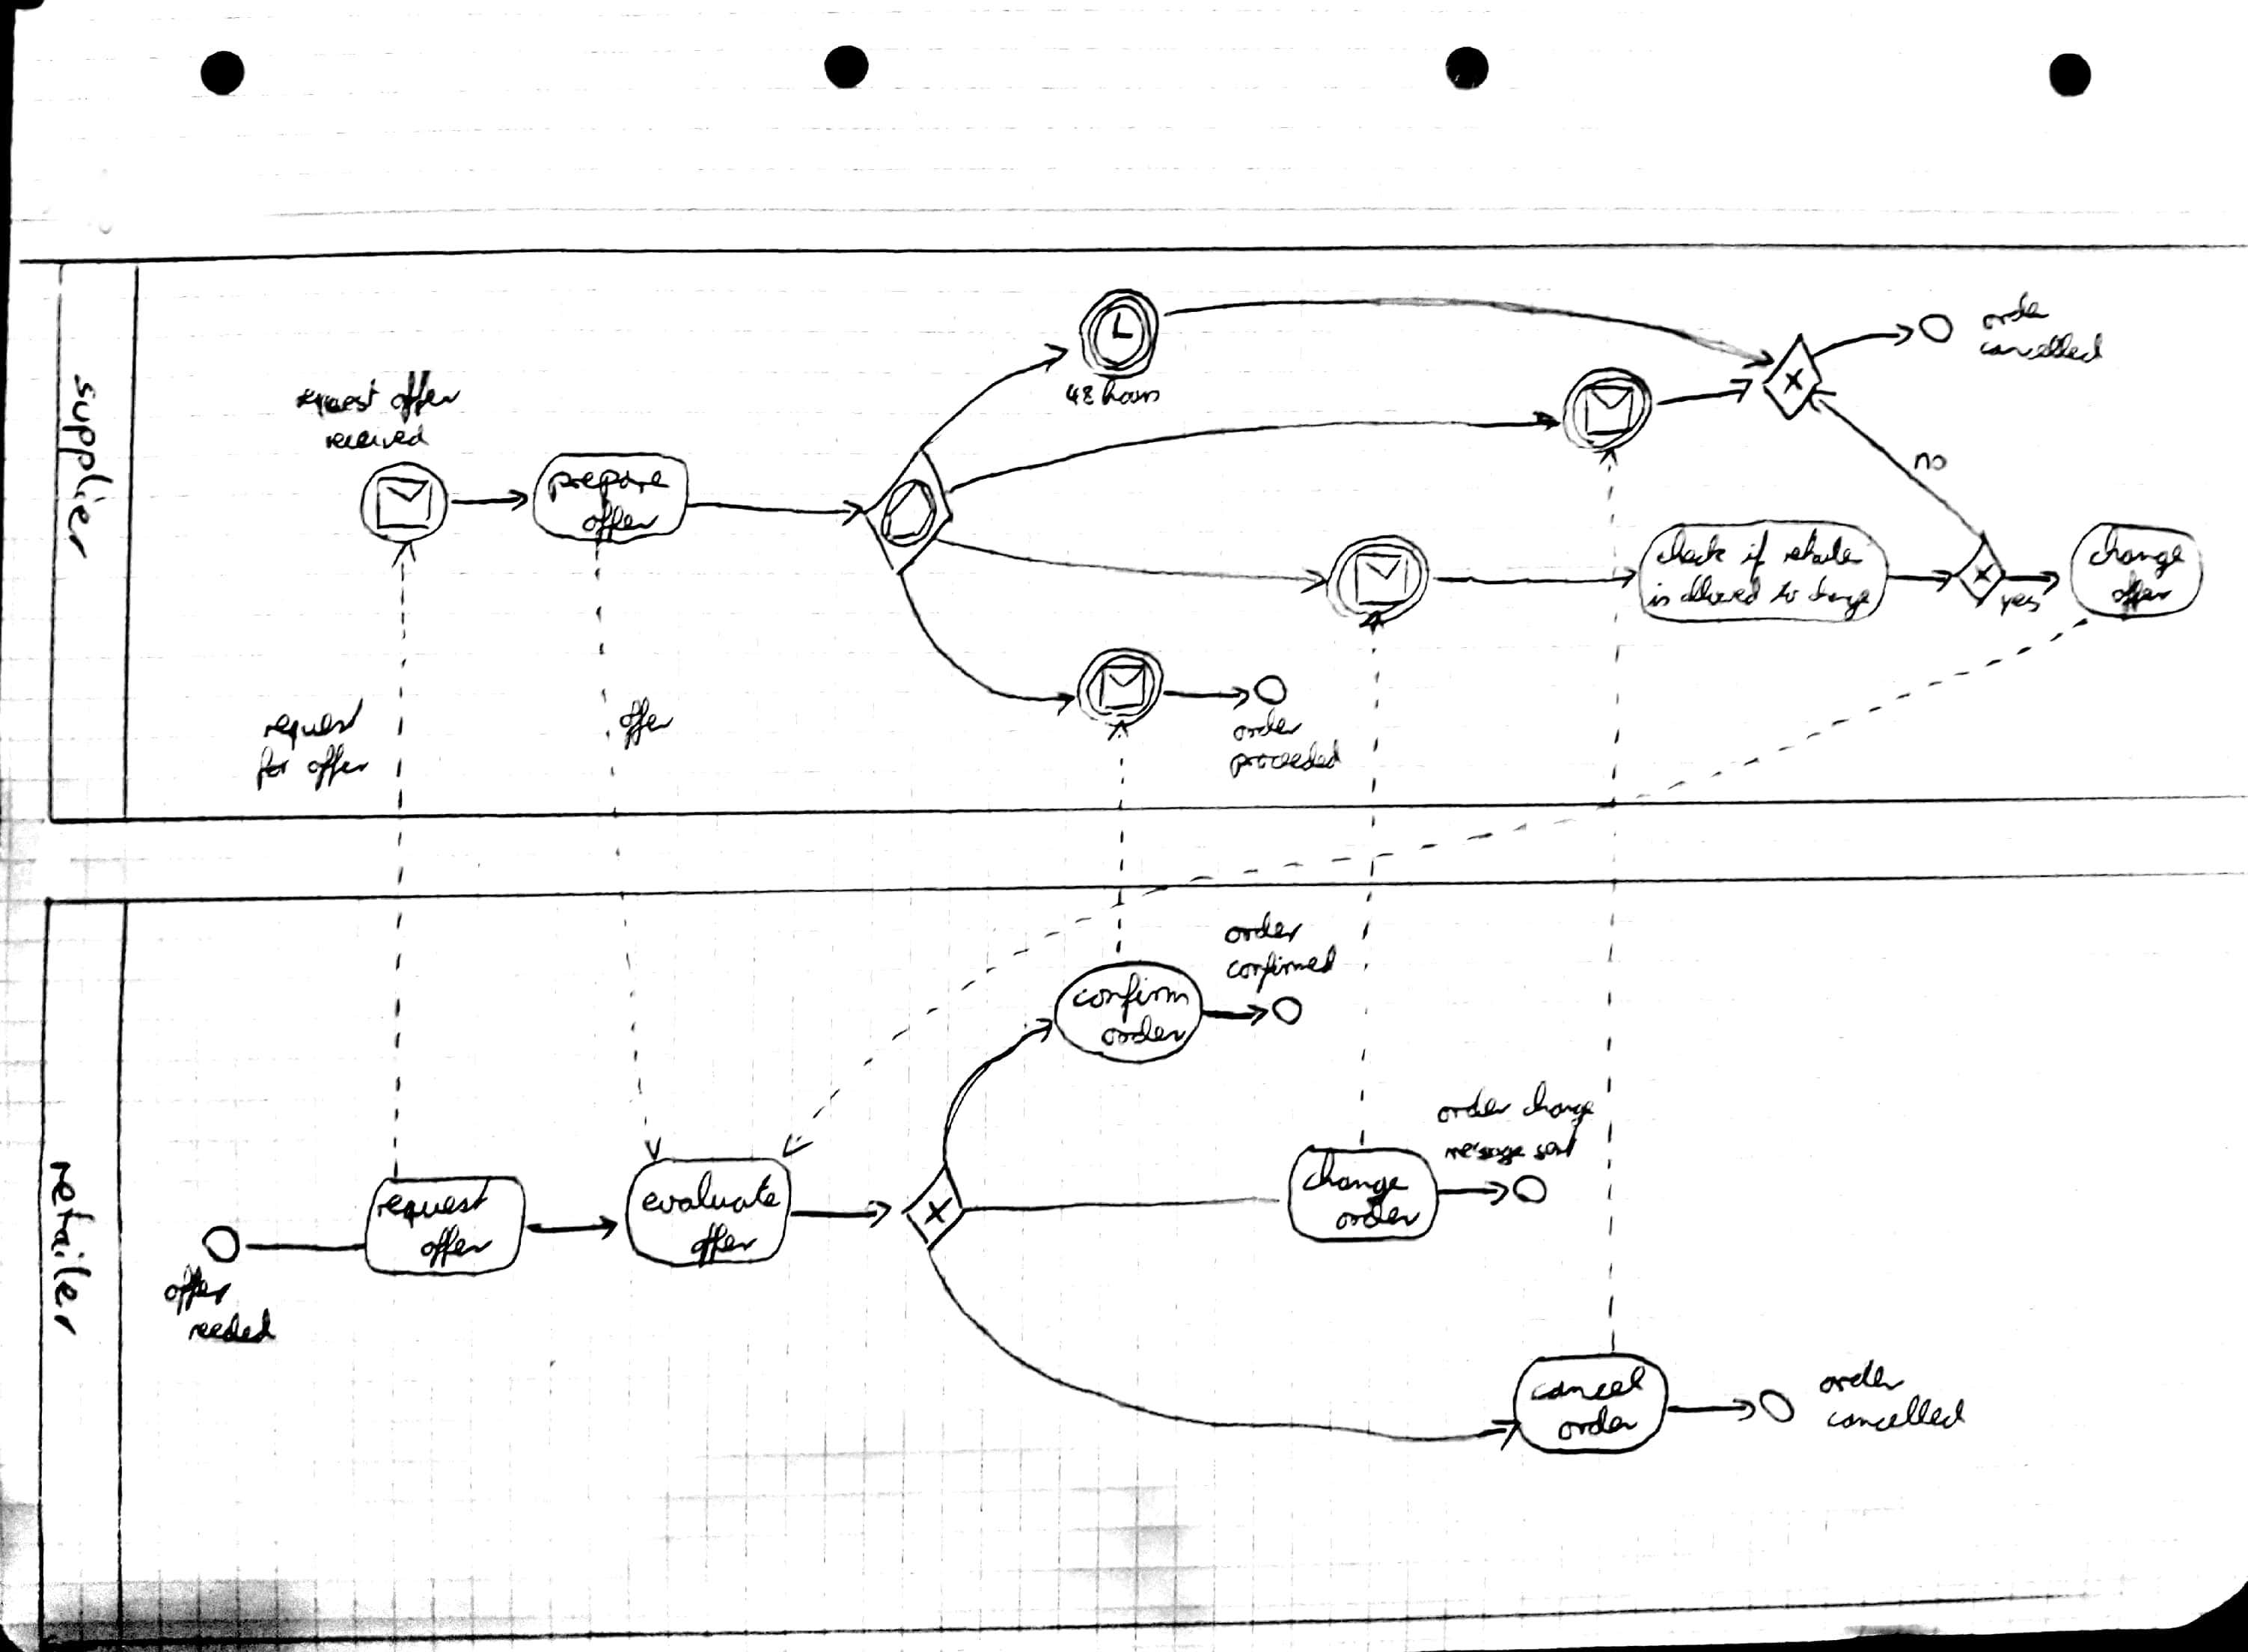48: (1063, 380, 1098, 412)
allowed: (1676, 574, 1763, 614)
cancel: (1539, 1364, 1639, 1410)
cancelled: (1970, 328, 2117, 368), (1833, 1394, 1958, 1439)
change: (1297, 1139, 1408, 1193), (2086, 534, 2185, 572), (1806, 574, 1885, 621), (1511, 1089, 1599, 1129)
check: (1655, 537, 1728, 570)
confirm: (1070, 979, 1192, 1017)
confirmed: (1222, 944, 1344, 987)
evaluate: (635, 1172, 784, 1221)
for: (243, 741, 281, 797)
hours: (1101, 380, 1168, 410)
if: (1730, 529, 1772, 572)
is: (1644, 576, 1670, 614)
message: (1440, 1136, 1525, 1167)
needed: (171, 1308, 288, 1352)
no: (1909, 448, 1944, 473)
offer: (286, 736, 375, 794), (1332, 1200, 1429, 1239), (384, 373, 463, 420), (2103, 569, 2176, 616), (567, 502, 661, 537), (166, 1263, 230, 1310), (616, 687, 672, 741), (679, 1230, 766, 1259), (417, 1232, 487, 1261)
order: (1812, 1362, 1906, 1399), (1223, 911, 1311, 949), (1566, 1404, 1637, 1448), (1435, 1089, 1506, 1127), (1098, 1022, 1189, 1052), (1229, 712, 1304, 747), (1981, 293, 2051, 328)
prepare: (543, 454, 670, 501)
proceeded: (1230, 738, 1349, 782)
received: (318, 424, 429, 457)
request: (258, 698, 368, 754), (375, 1181, 490, 1226), (291, 379, 379, 420)
retailer: (42, 1157, 91, 1336)
sent: (1518, 1130, 1581, 1157)
state: (1779, 530, 1876, 574)
supplier: (59, 377, 106, 563)
to: (1766, 574, 1803, 614)
yes: (1993, 584, 2039, 618)
